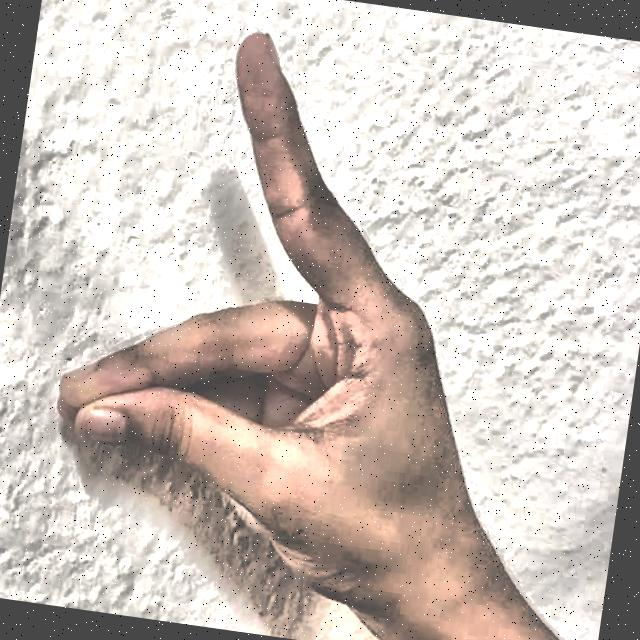Dha: (10, 2, 576, 640)
